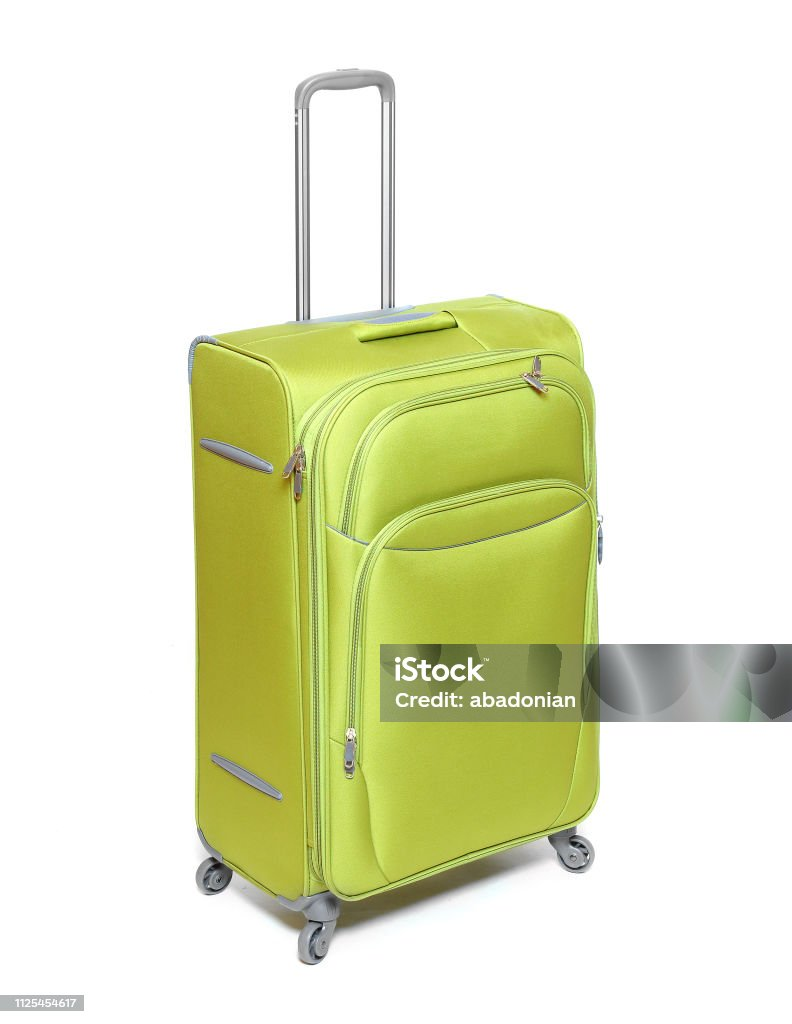Bag: (156, 55, 611, 944)
Handle: (280, 61, 413, 332)
